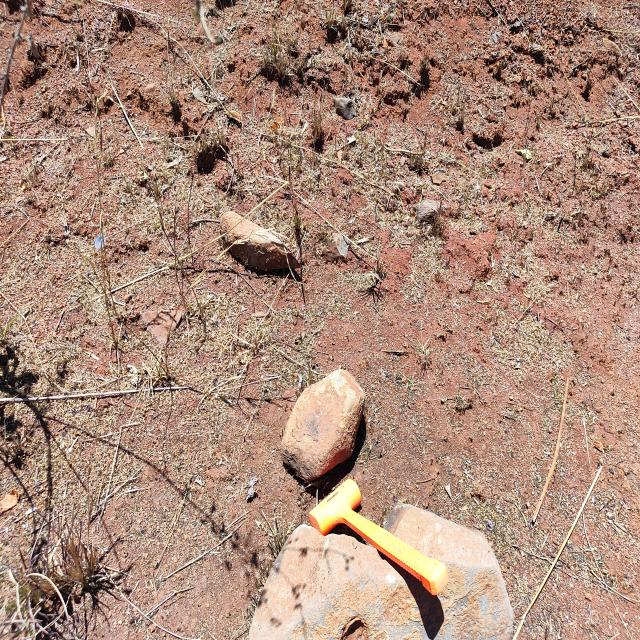Orange_hammer: (307, 477, 449, 596)
